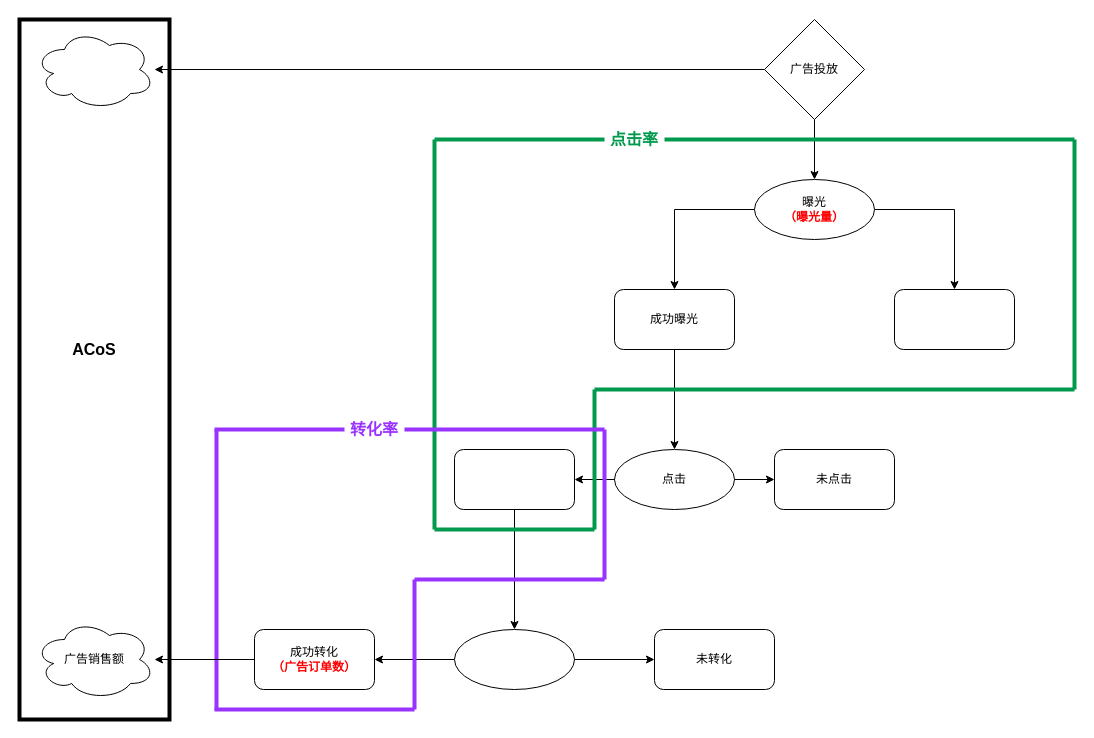
Some shapes in this 1094 by 738 pixel diagram are drawn without their labels. Each missing label, with the box of its shape:
广告花费: (34, 28, 154, 110)
成功点击 （点击量）: (454, 448, 574, 510)
未成功曝光: (894, 288, 1014, 350)
转化: (454, 628, 574, 690)
